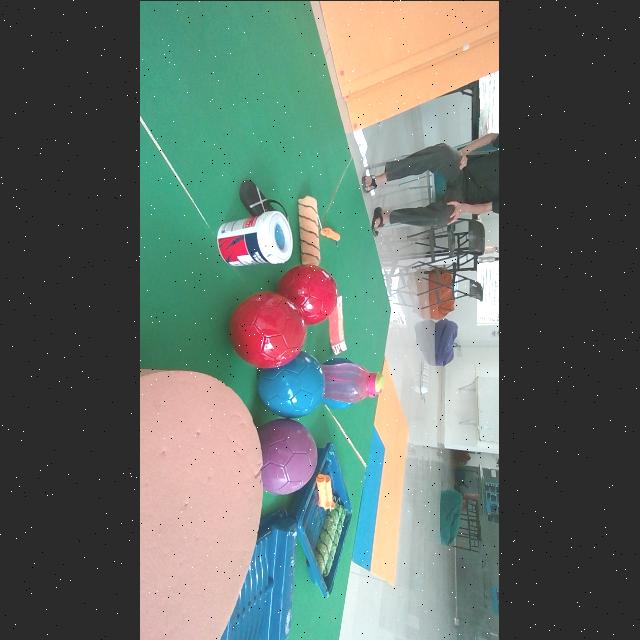B: (259, 350, 326, 417), (323, 396, 353, 409), (325, 357, 353, 363)
P: (259, 418, 318, 494)
R: (230, 291, 308, 368), (277, 263, 338, 324)
